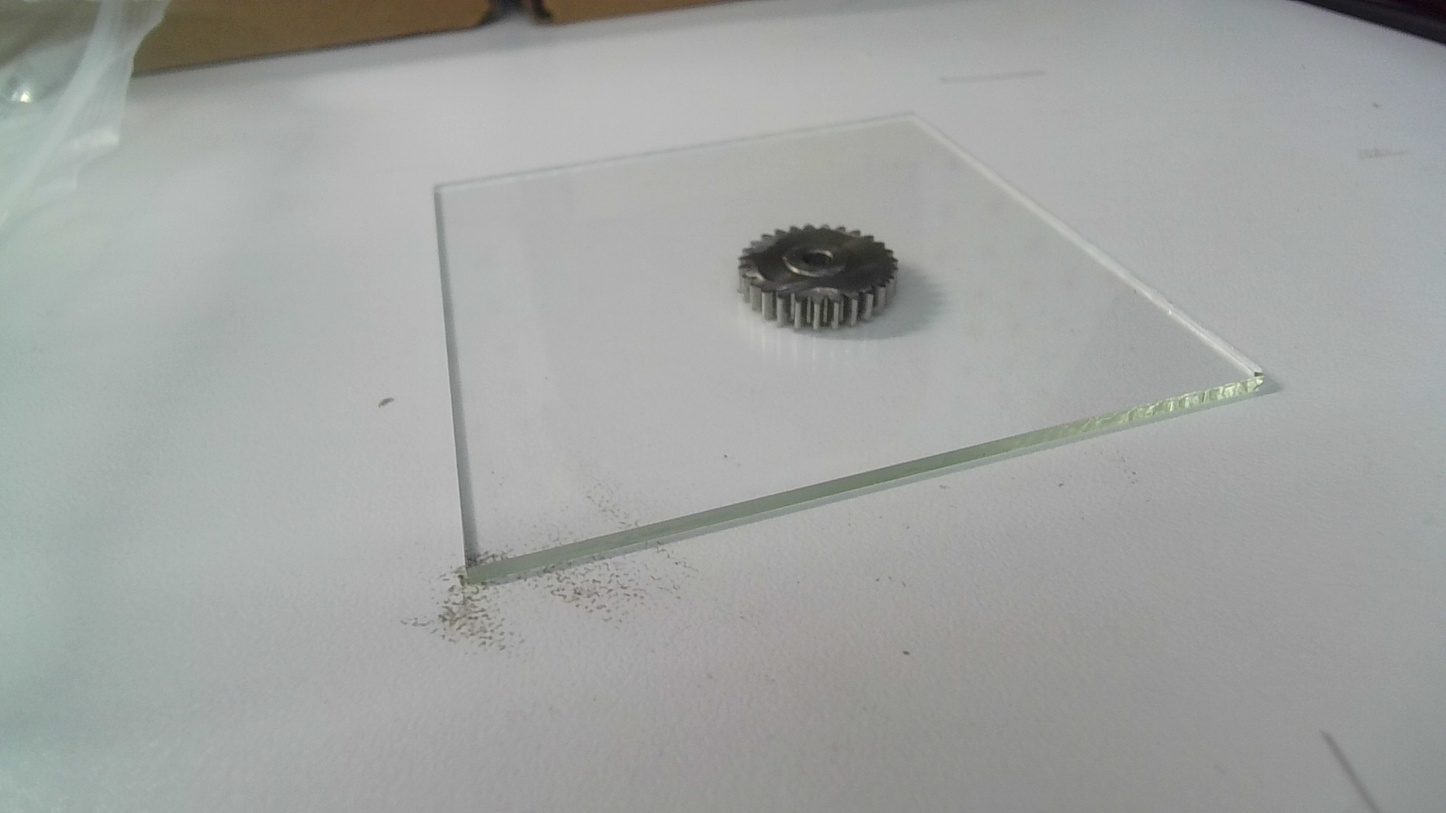gear: (731, 222, 901, 335)
